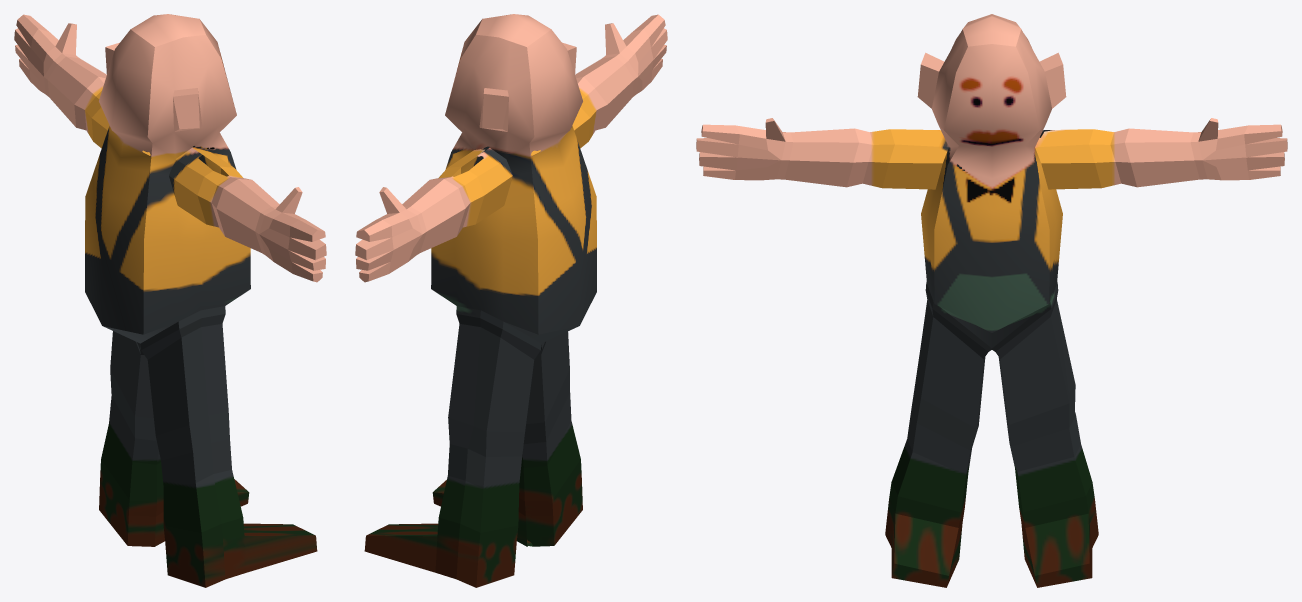
Rendered from characterLandmand03.FBX.
The picture shows the model from 3 angles, left to right: view 1: azimuth 30°, elevation 25°; view 2: azimuth 150°, elevation 25°; view 3: azimuth 270°, elevation 25°; orthographic projection.
Visible parts, largest first — view 1: Box001; view 2: Box001; view 3: Box001.
Boxes of the visible parts, x1,y1,x2,y2 form: Box001: (14,14,326,587); Box001: (355,14,667,587); Box001: (696,14,1287,587).
Size of the model in its own units: 63.57 by 196 by 196.
Materials: 1 (1 with a texture image).
